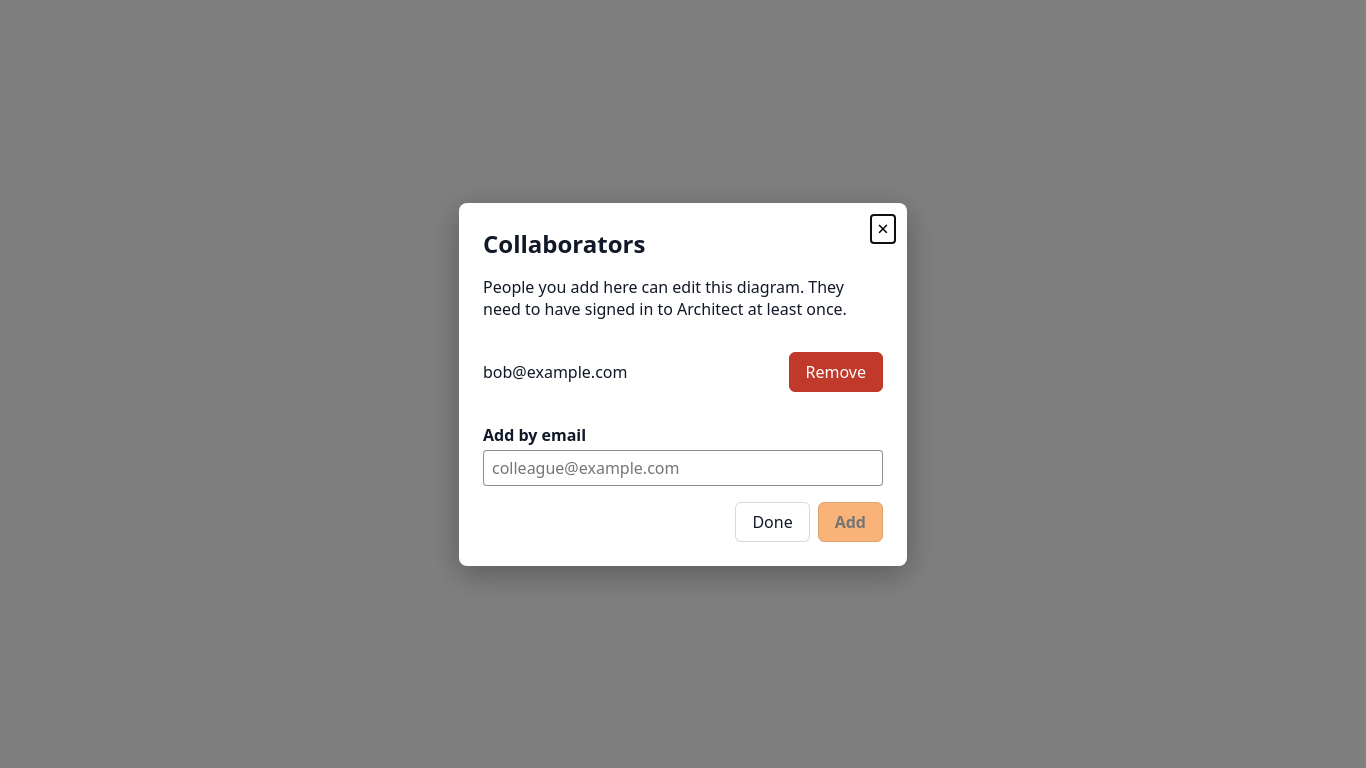
Scenario: reports a failed removal
Click the button "Remove". click: (836, 372)
box: [788,352,883,392]
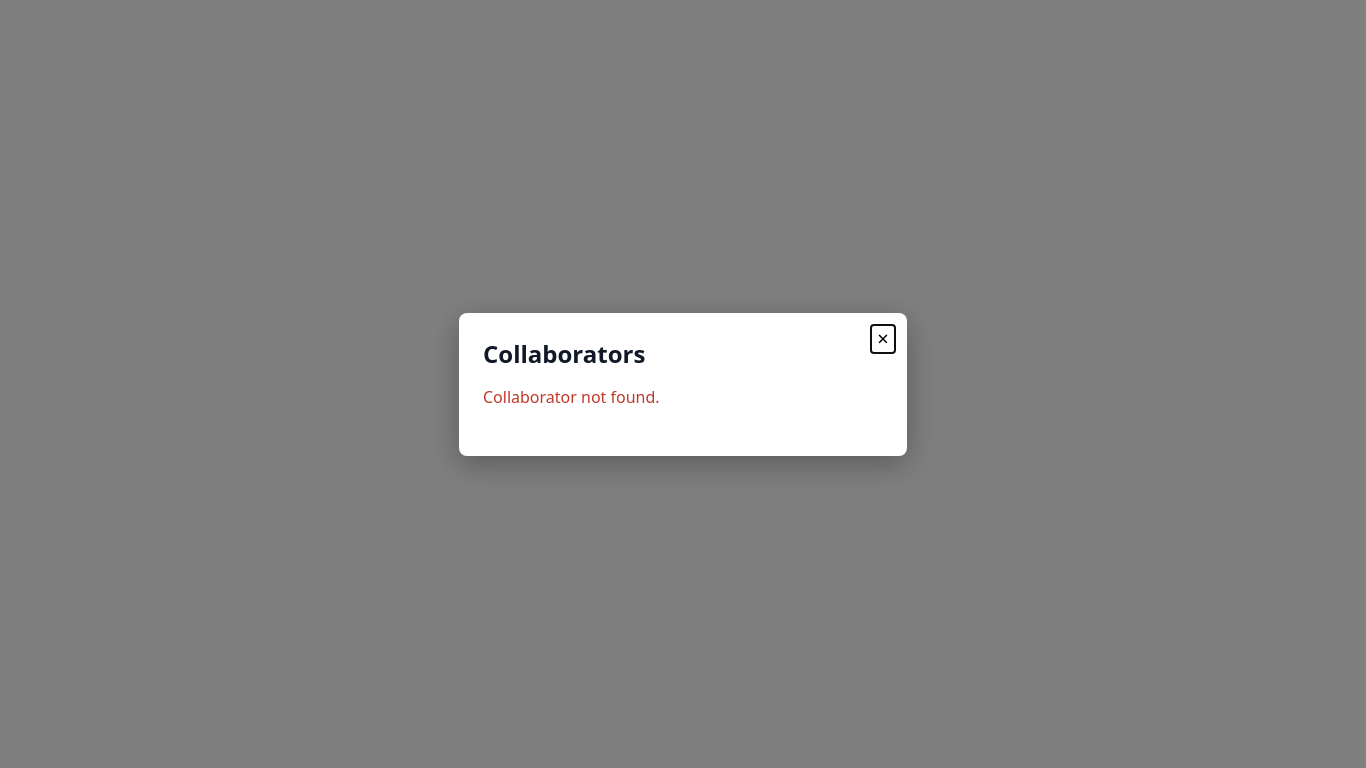
expect the message reads "Collaborator not found.": met, box [483,386,660,408]
